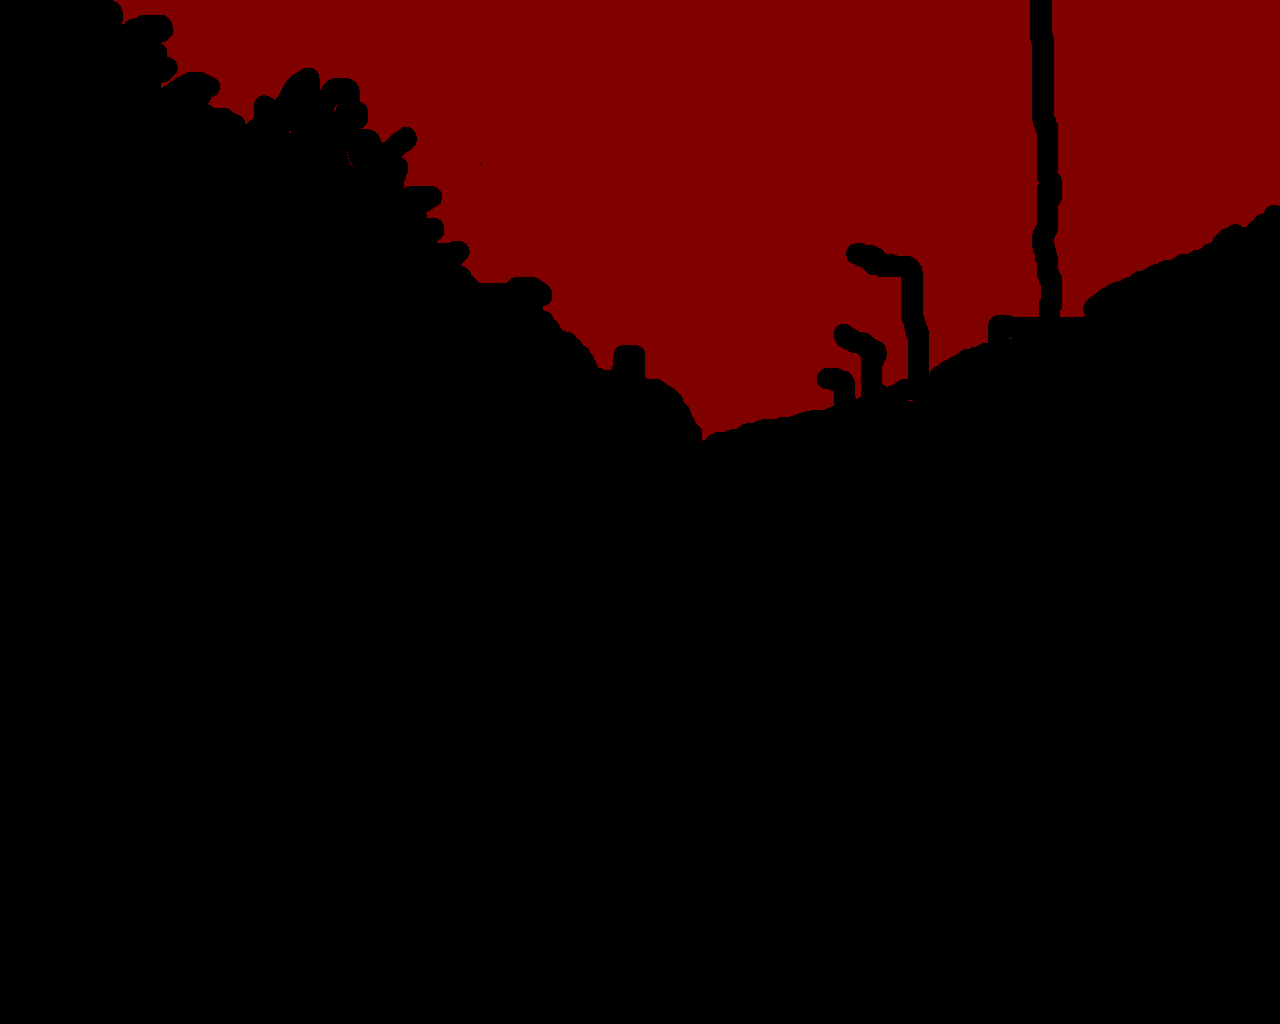Sky: (114, 1, 1279, 441)
